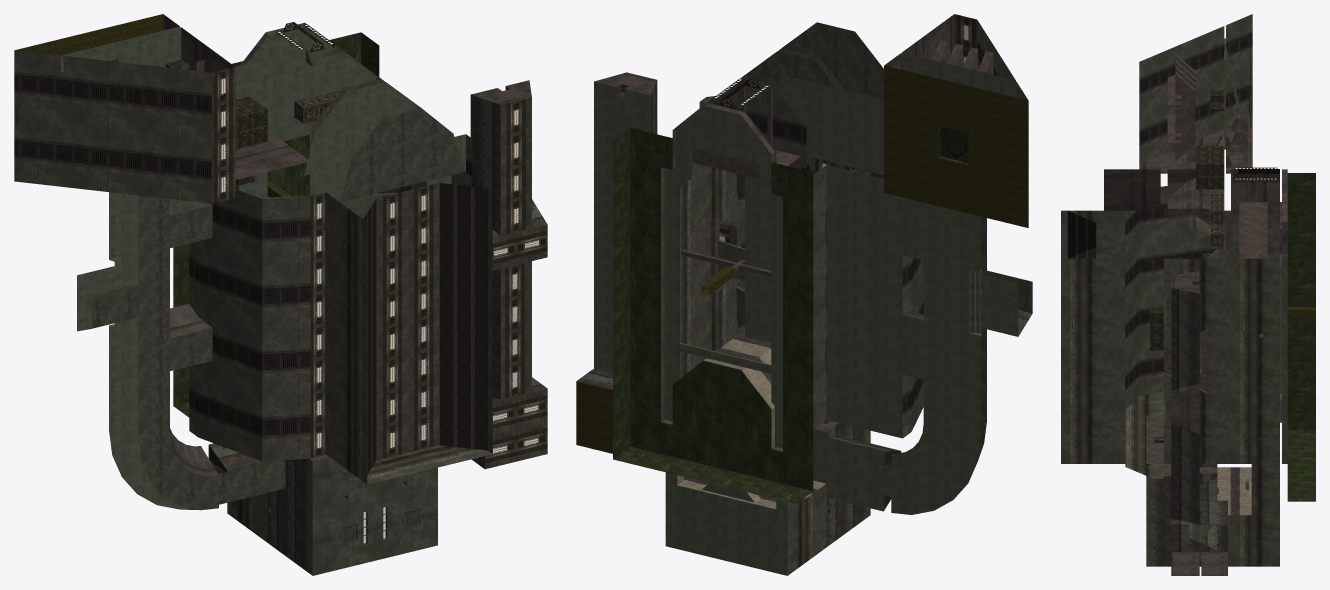
File: DM-Gantry16][.obj
The picture shows the model from 3 angles, left to right: view 1: azimuth 30°, elevation 25°; view 2: azimuth 150°, elevation 25°; view 3: azimuth 270°, elevation 25°; orthographic projection. The views are drawn at different scales.
Bounding box in the file's own units: 74.9 × 79.17 × 43.89.
Materials: 28 (28 with a texture image).
